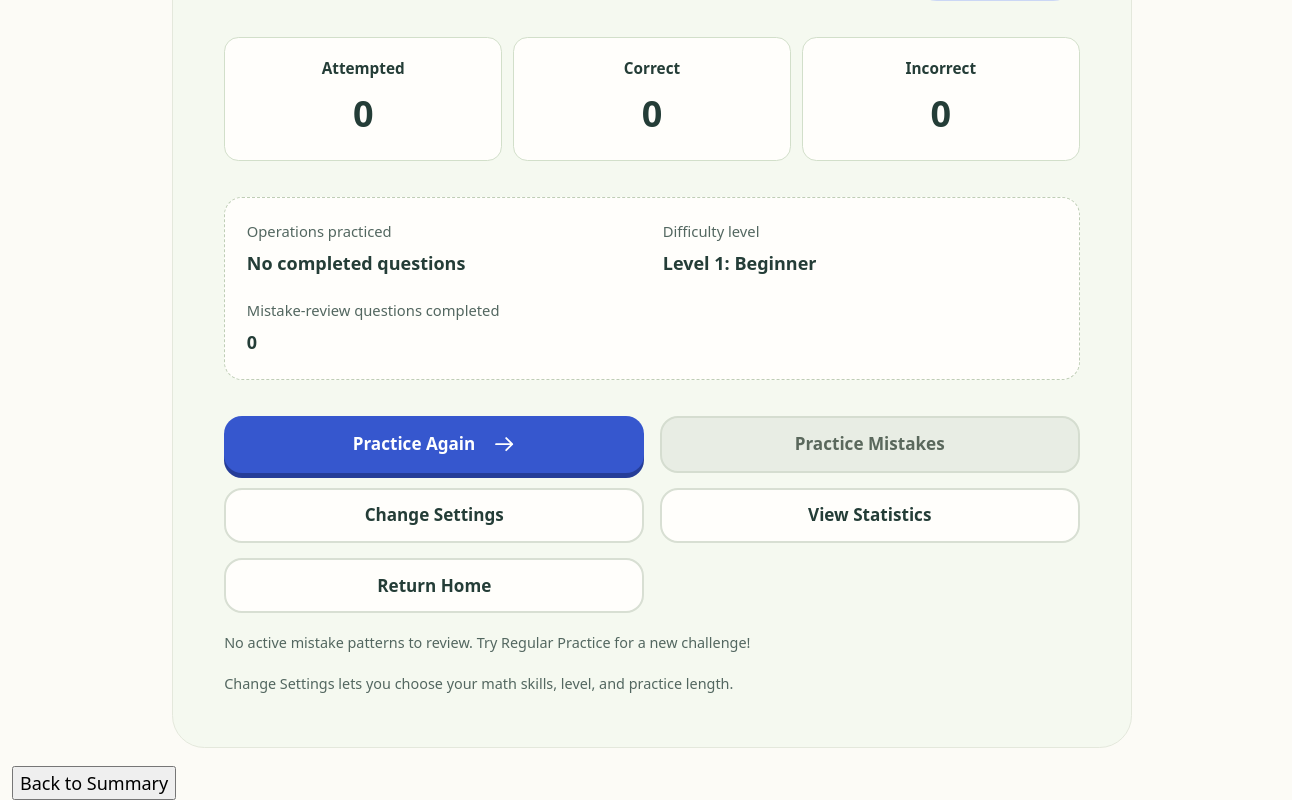
Change Settings navigates to /practice/setup
The image size is (1292, 800).
(page scrolled)
Click the link "Change Settings" at point(434, 516), box [224,488,644,543]
(page scrolled)
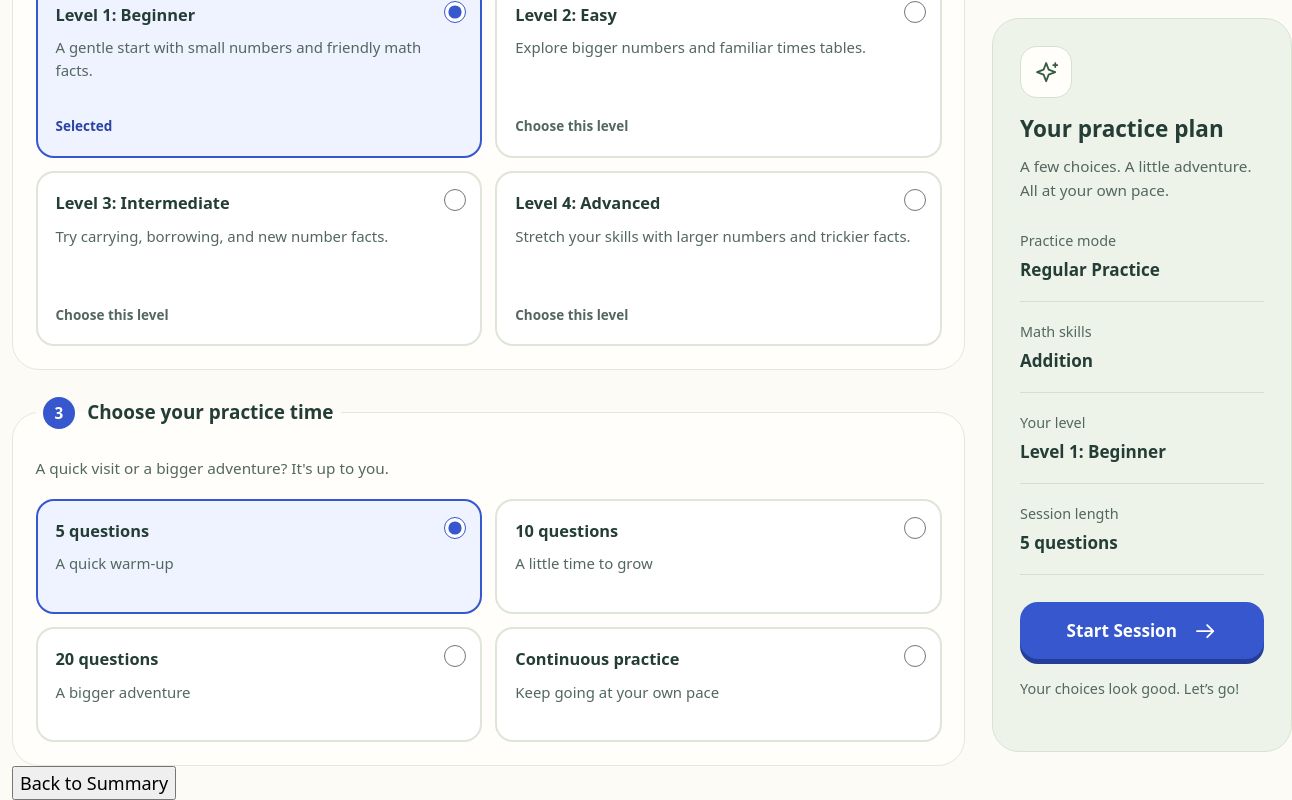
Result: the radio button labelled "Level 1: Beginner" is checked at [444,1,466,23]
Result: the radio button labelled "5 questions" is checked at [444,517,466,539]
